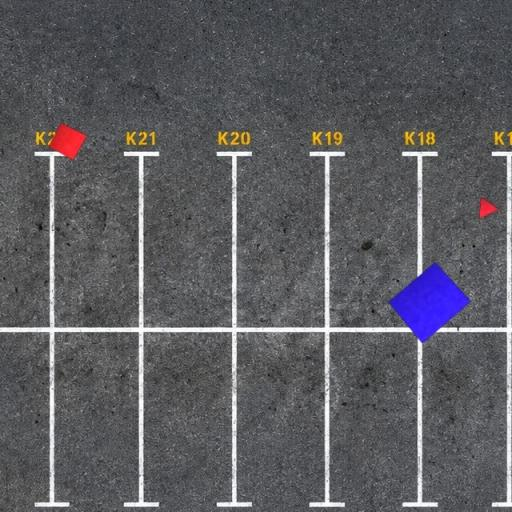BLUE_SQUARE: (388, 261, 471, 345)
RED_SQUARE: (48, 122, 88, 161)
